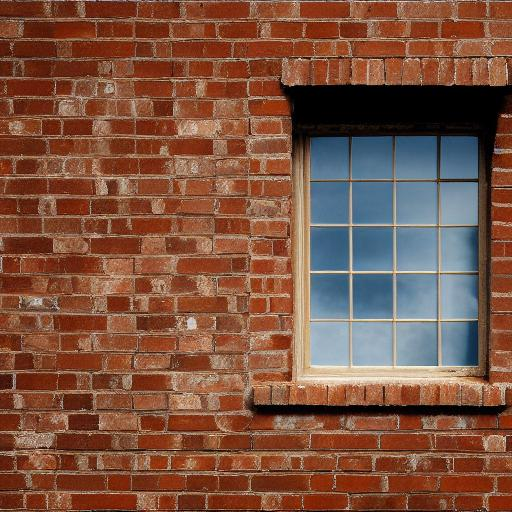Window: (250, 60, 512, 412)
